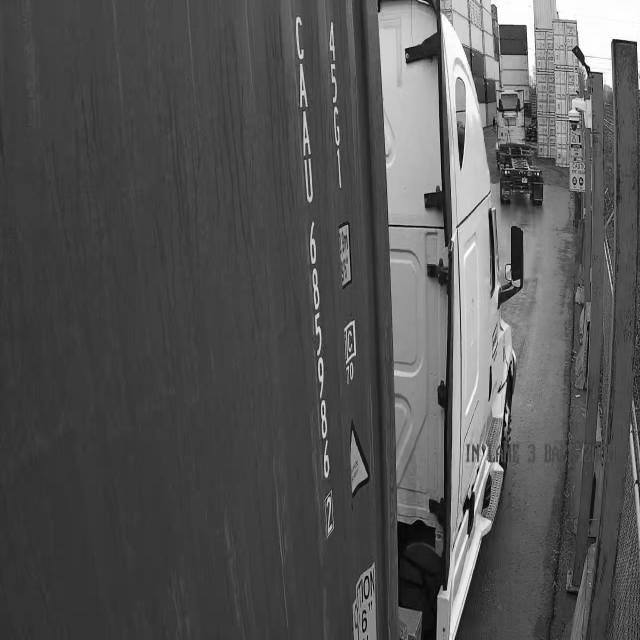container_side_no: (290, 12, 341, 541)
truck_with_container: (0, 0, 524, 639)
